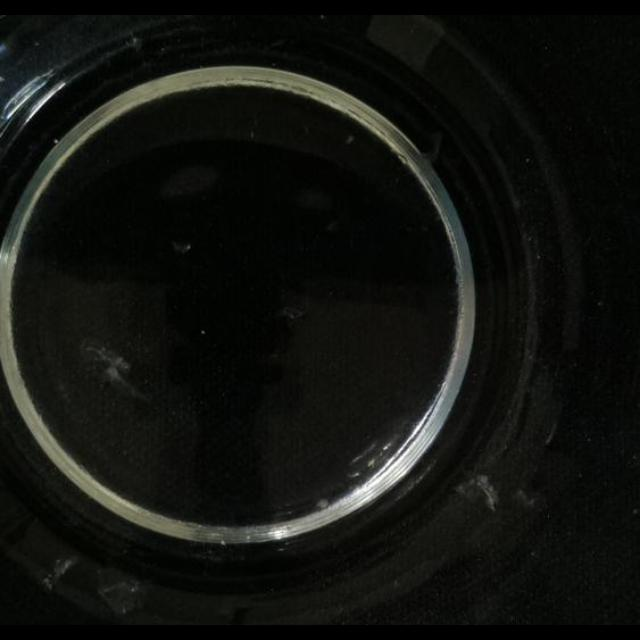Fibre: (82, 340, 152, 404), (456, 474, 500, 516)
microbeads: (512, 486, 538, 512)
